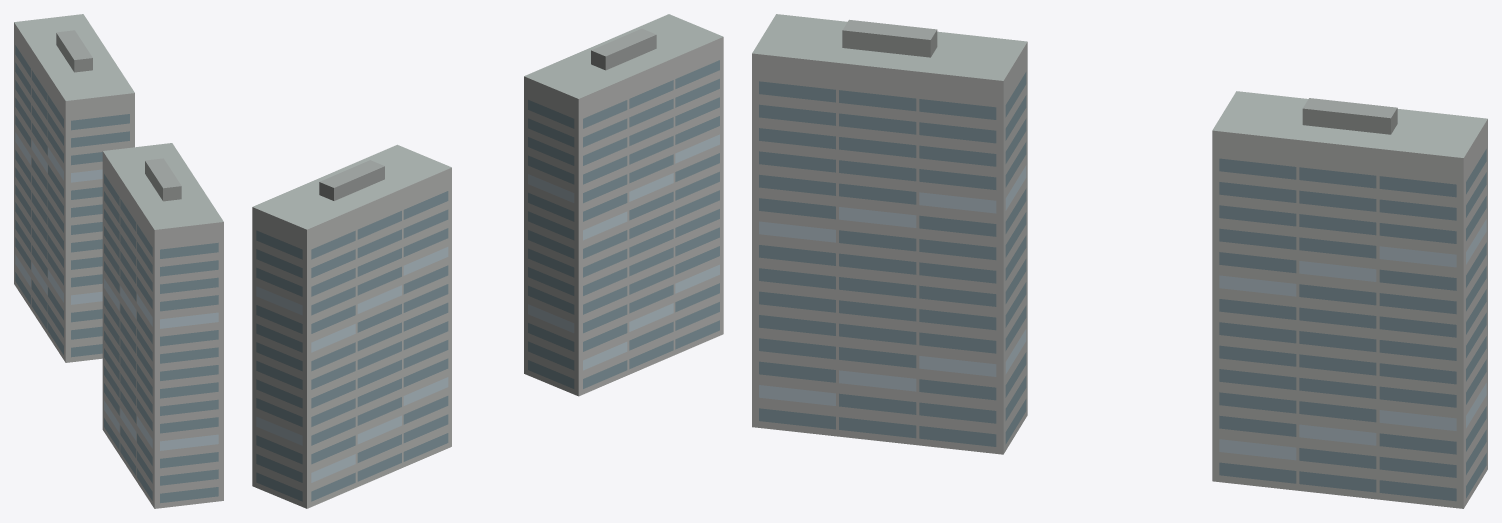
File: apt-a10025174.glb
The picture shows the model from 3 angles, left to right: view 1: azimuth 30°, elevation 25°; view 2: azimuth 150°, elevation 25°; view 3: azimuth 270°, elevation 25°; orthographic projection. The views are drawn at different scales.
Visible parts, largest first — view 1: apt-a10025174; view 2: apt-a10025174; view 3: apt-a10025174.
Part boxes in pixels (x1,y1,x2,y2): apt-a10025174: (14, 14, 223, 508); apt-a10025174: (252, 14, 723, 508); apt-a10025174: (752, 14, 1487, 508).
Size of the model in its own units: 32.58 by 49 by 83.52.
